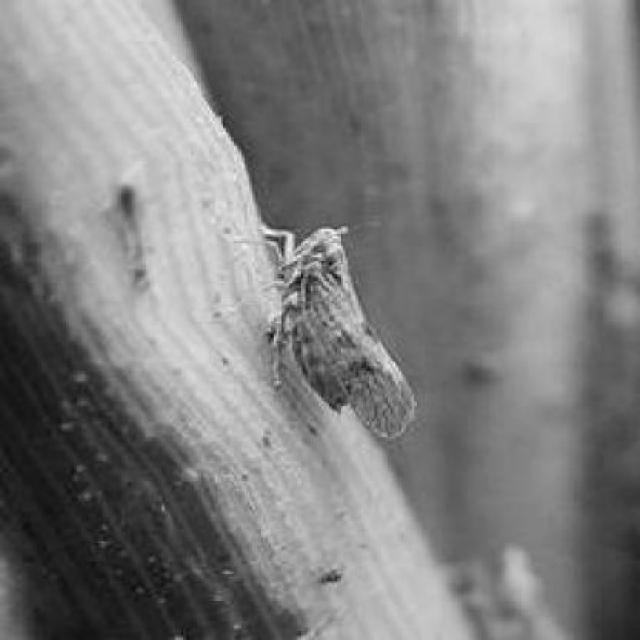brown-planthopper: (263, 223, 409, 439)
